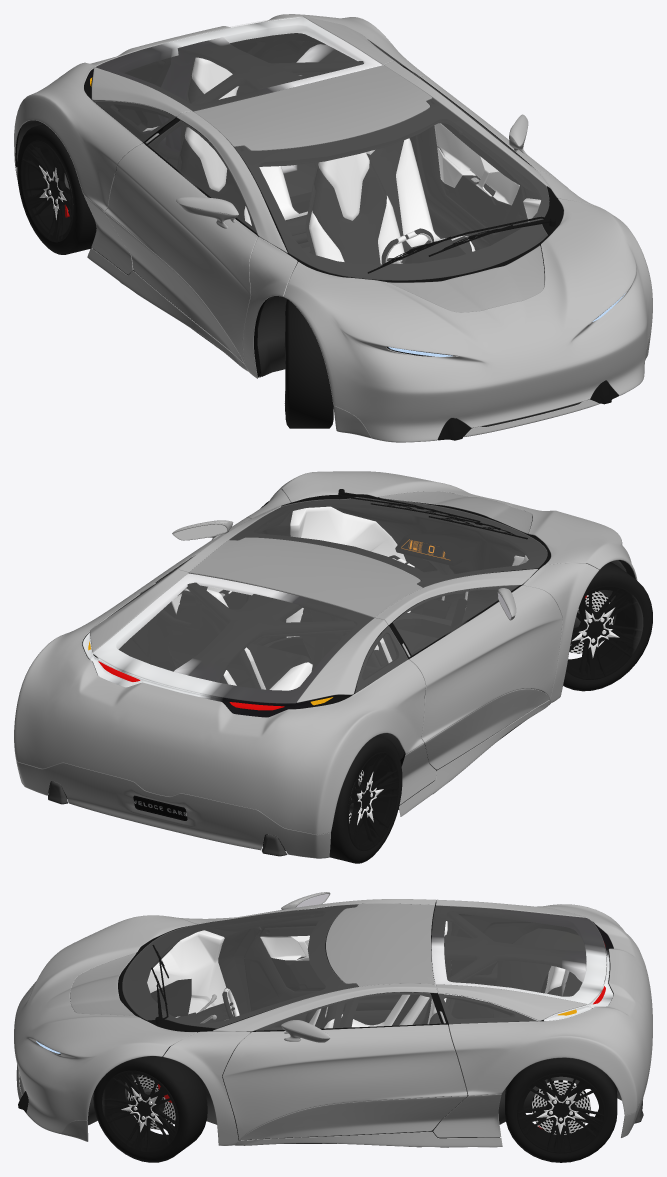
The model's file is car.glb.
The picture shows the model from 3 angles, top to bottom: view 1: azimuth 30°, elevation 25°; view 2: azimuth 150°, elevation 25°; view 3: azimuth 270°, elevation 25°; orthographic projection. The views are drawn at different scales.
Parts seen in each view (by area): view 1: BodyHood, BodyWindshield, BodyRearwindow, BodyDoorRColor1, BodyRearPanelsColor1, BodyRoofPanel, BodyWindshieldGasket, InteriorSeatsColor1, InteriorSeatsColor2, BodyPillars, InteriorPillar, InteriorRearHatch (+21 smaller); view 2: BodyRearPanelsColor1, BodyRearwindow, BodyWindshield, BodyDoorRColor1, BodyPanelsColor2, BodyRoofPanel, BodyHood, InteriorRearHatch, BodyPillars, InteriorPillar, BodyWindshieldGasket, InteriorDashMid (+22 smaller); view 3: BodyRearPanelsColor1, BodyWindshield, BodyDoorLColor1, BodyHood, BodyRearwindow, BodyRoofPanel, BodyPillars, BodyWindshieldGasket, BodyDoorLColor2, BodyPanelsColor2, WheelFrontL, InteriorRearHatch (+25 smaller).
Boxes of the visible parts, x1,y1,x2,y2 form: BodyHood: (283,198,652,442); BodyWindshield: (234,98,549,280); BodyRearwindow: (95,16,382,110); BodyDoorRColor1: (104,143,257,362); BodyRearPanelsColor1: (14,14,428,210); BodyRoofPanel: (193,65,432,150); BodyWindshieldGasket: (234,99,563,282); InteriorSeatsColor1: (185,57,475,264); InteriorSeatsColor2: (180,78,472,264); BodyPillars: (176,61,598,378); InteriorPillar: (158,37,434,168); InteriorRearHatch: (93,17,383,117); BodyRearPanelsColor1: (14,569,425,834); BodyRearwindow: (92,573,373,703); BodyWindshield: (229,497,547,587); BodyDoorRColor1: (409,585,562,742); BodyPanelsColor2: (16,700,550,858); BodyRoofPanel: (189,537,422,617); BodyHood: (279,471,637,580); InteriorRearHatch: (93,573,386,707); BodyPillars: (175,489,599,702); InteriorPillar: (174,574,417,682); BodyWindshieldGasket: (230,497,550,587); InteriorDashMid: (331,502,528,622); BodyRearPanelsColor1: (436,899,652,1115); BodyWindshield: (122,904,357,1028); BodyDoorLColor1: (222,1024,467,1139); BodyHood: (14,915,196,1133); BodyRearwindow: (432,905,606,1003); BodyRoofPanel: (326,903,434,986); BodyPillars: (163,899,437,1145); BodyWindshieldGasket: (118,905,357,1032); BodyDoorLColor2: (240,1096,467,1140); BodyPanelsColor2: (16,1050,652,1147); WheelFrontL: (93,1054,207,1162); InteriorRearHatch: (431,905,606,1020).
Bounding box in the file's own units: 2.54 × 1.15 × 4.36.
23 materials, 5 textured.
